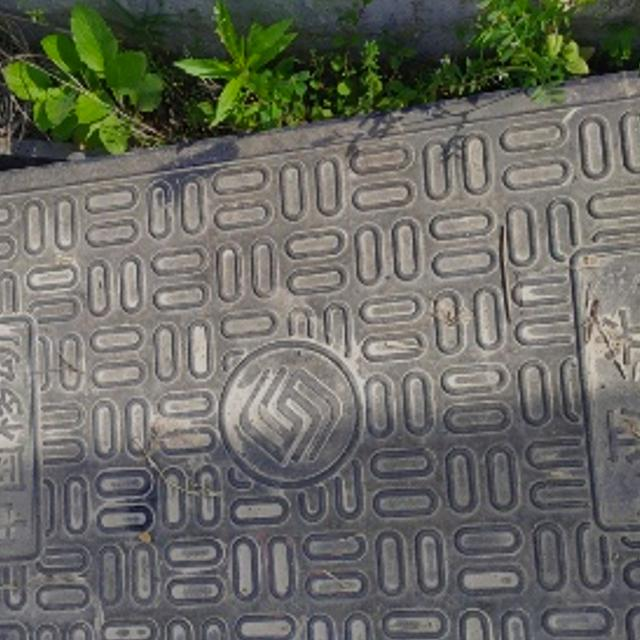uncovered: (0, 44, 640, 640)
